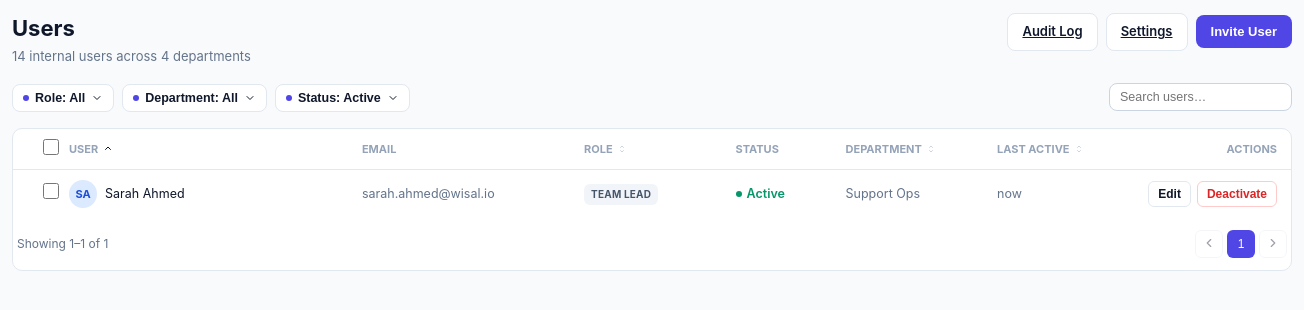
it: UsersPage › writes a role filter change to the URL search params
Expected: the text "Sarah Ahmed" is shown, [105, 186, 185, 201]
Click the button "Role: All". click: click(63, 98)
box: [12, 84, 114, 112]
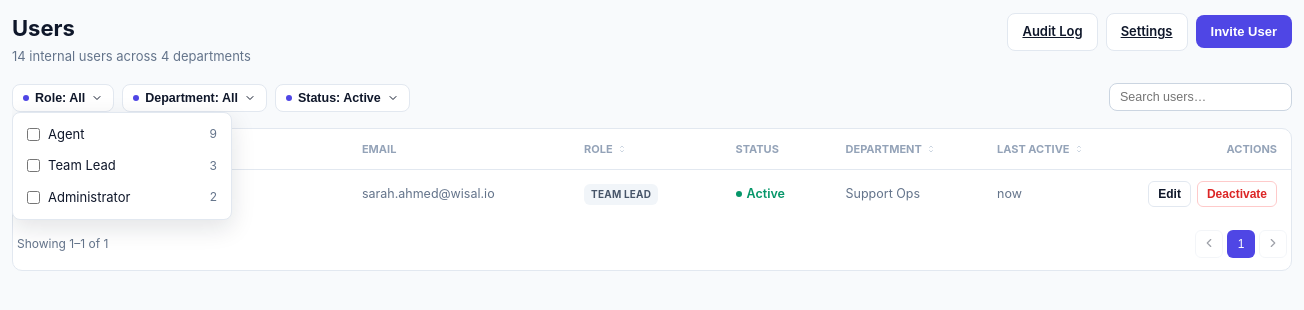
Click the checkbox labelled "Administrator 2". click: click(34, 197)
box: [27, 191, 40, 204]
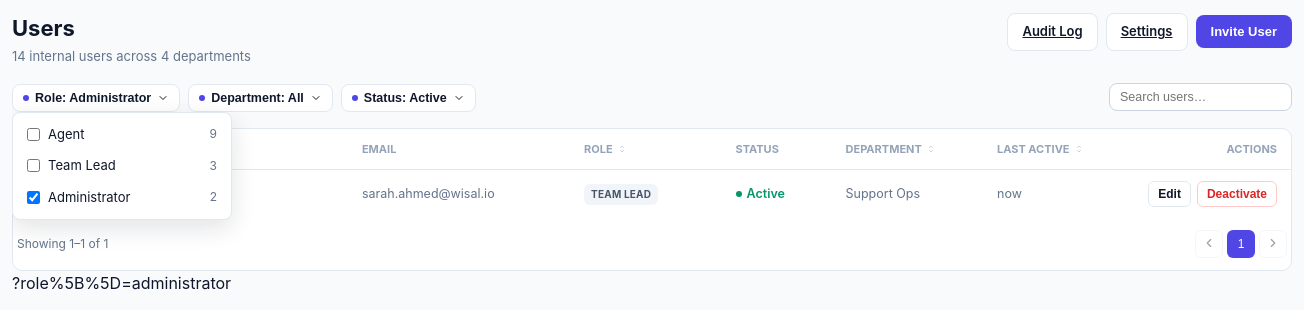
Now the text with test id "location" shows "role%5B%5D=administrator", box [12, 273, 231, 293]
